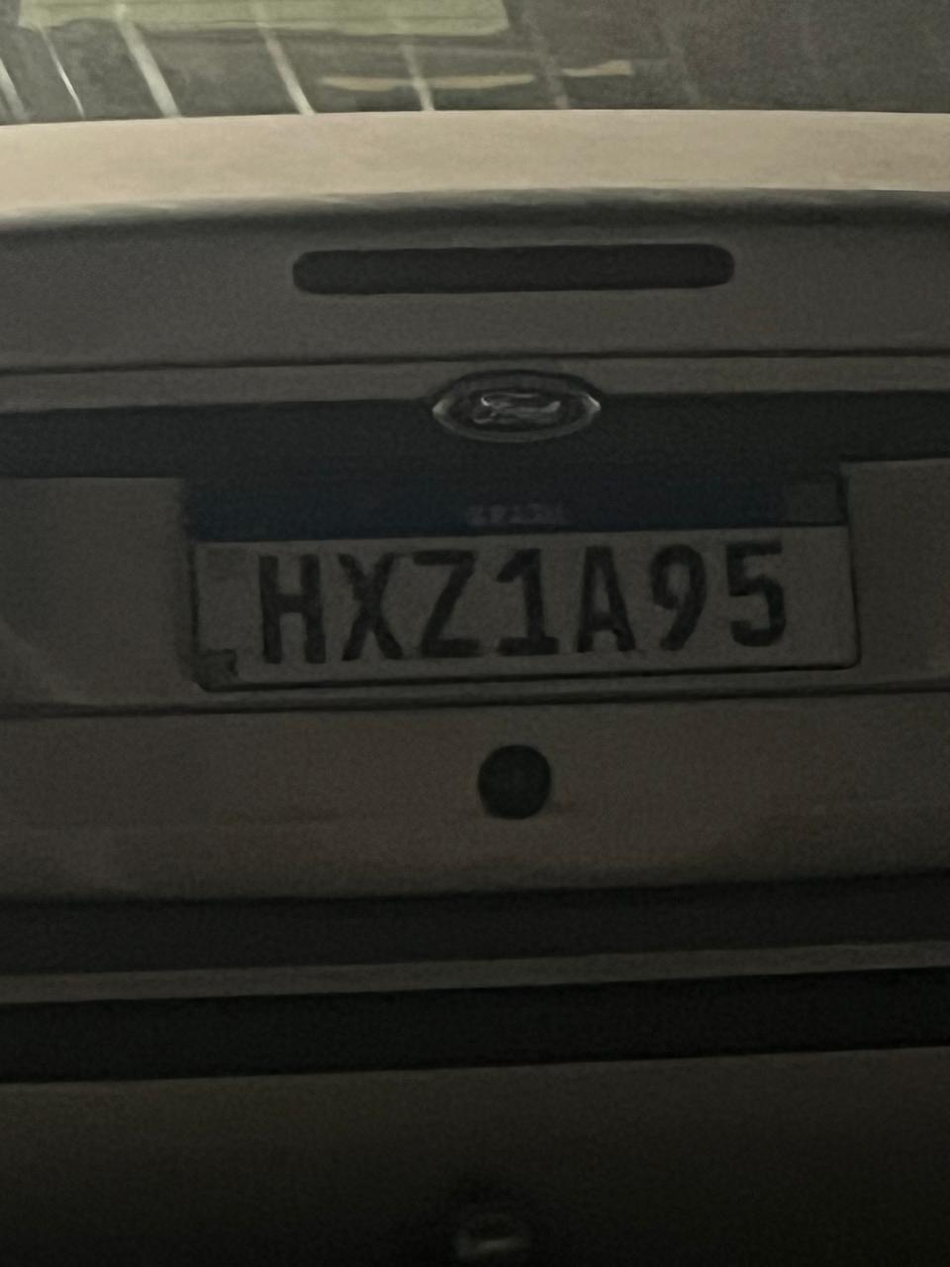1: (495, 537, 567, 667)
5: (720, 528, 797, 659)
9: (654, 537, 720, 669)
A: (567, 533, 646, 665)
H: (258, 547, 341, 673)
X: (337, 543, 405, 667)
Z: (414, 540, 488, 665)
